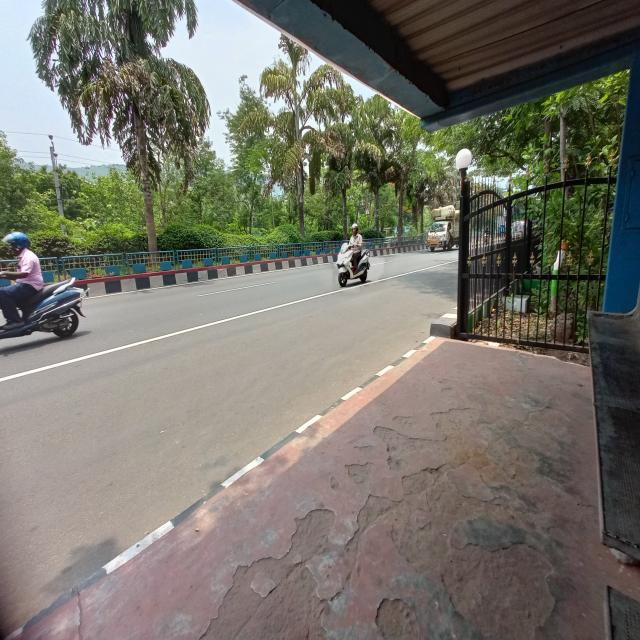bike: (0, 253, 97, 353), (334, 245, 376, 291)
